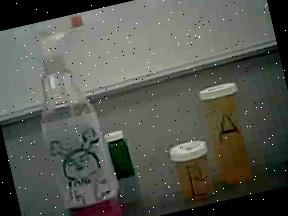Bottle A: (188, 71, 262, 196)
Bottle B: (162, 129, 222, 211)
Bottle C: (98, 121, 144, 187)
hazard: (22, 12, 127, 216)
